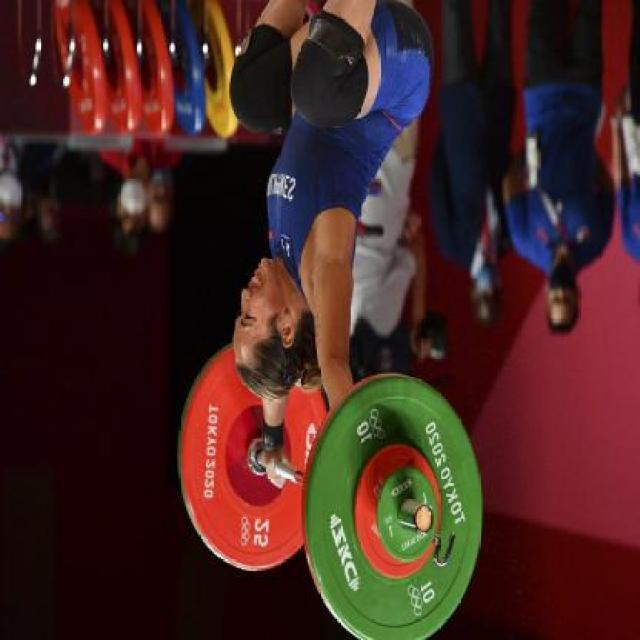Barbell: (383, 491, 439, 544)
